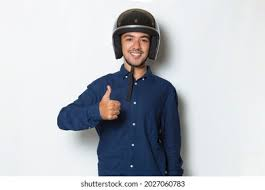helmets: (111, 7, 161, 62)
